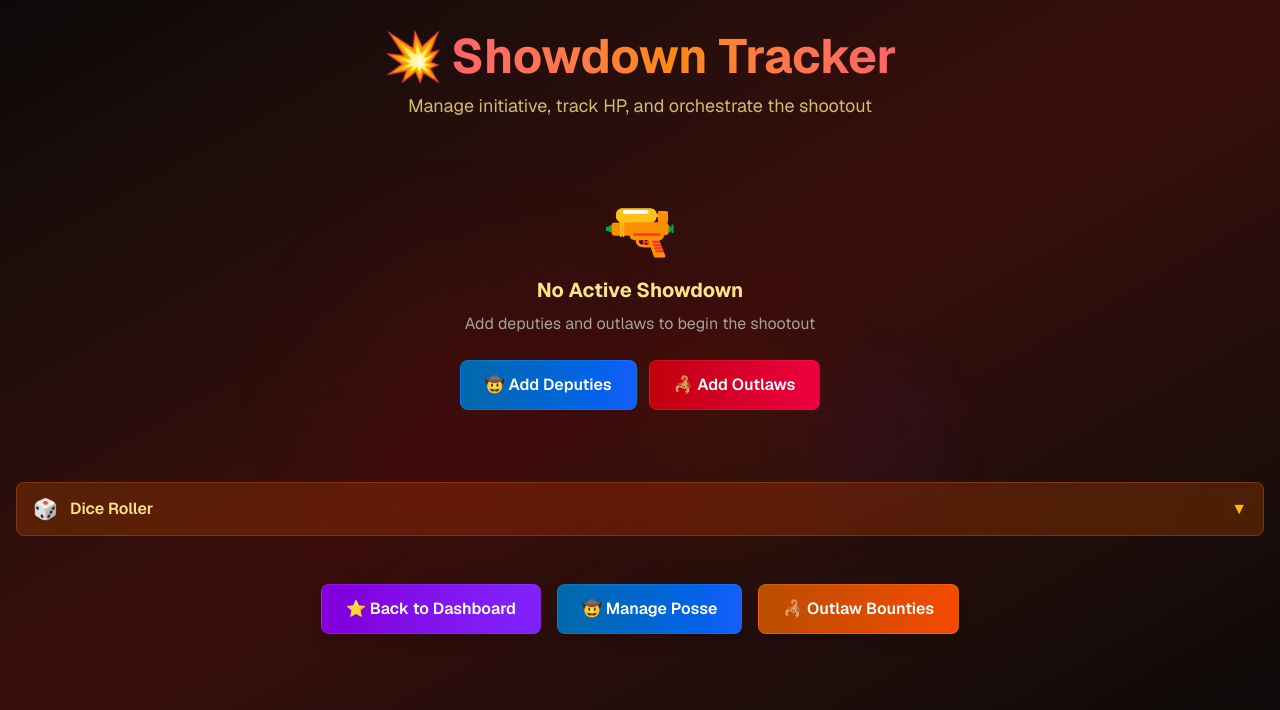
CombatPage › dice roller panel › should update roll count badge when dice are rolled
Step 1. Click the button "🎲 Dice Roller ▼" → coordinates (112, 508), box [16, 482, 1264, 536]
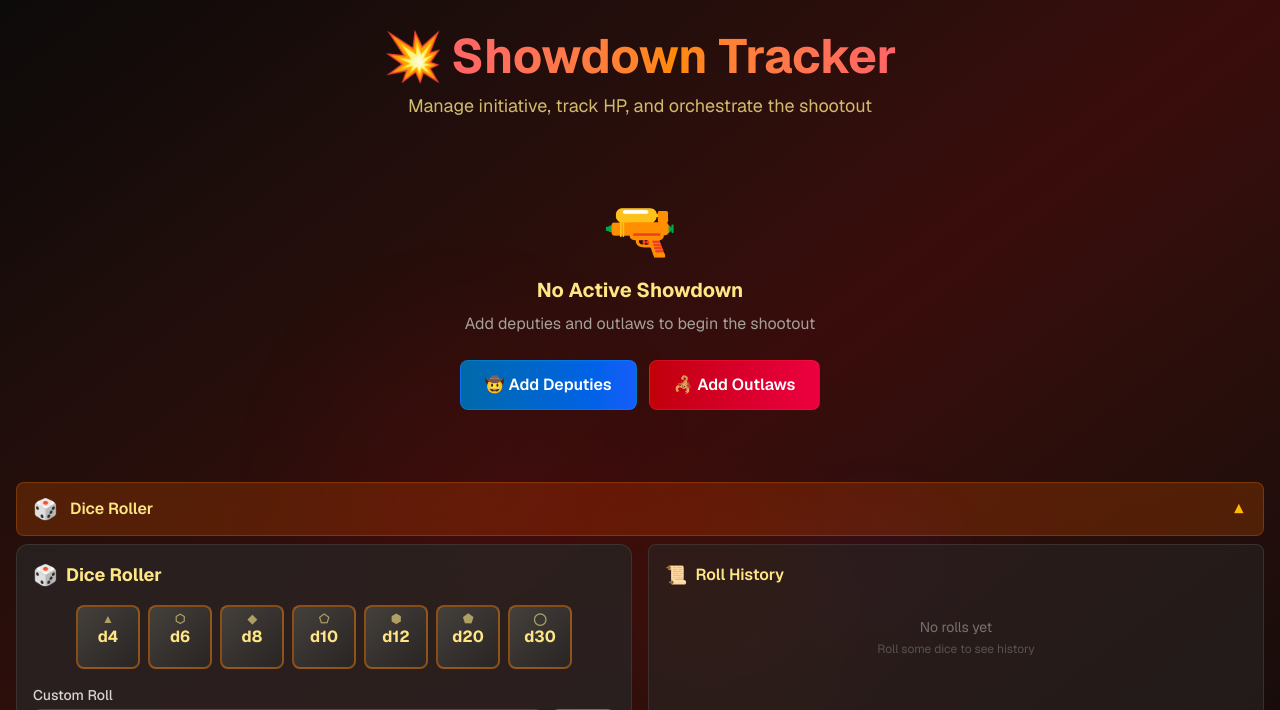
# Roll a die
Step 2. Click the button named "roll d20" → coordinates (468, 637), box [436, 605, 500, 669]
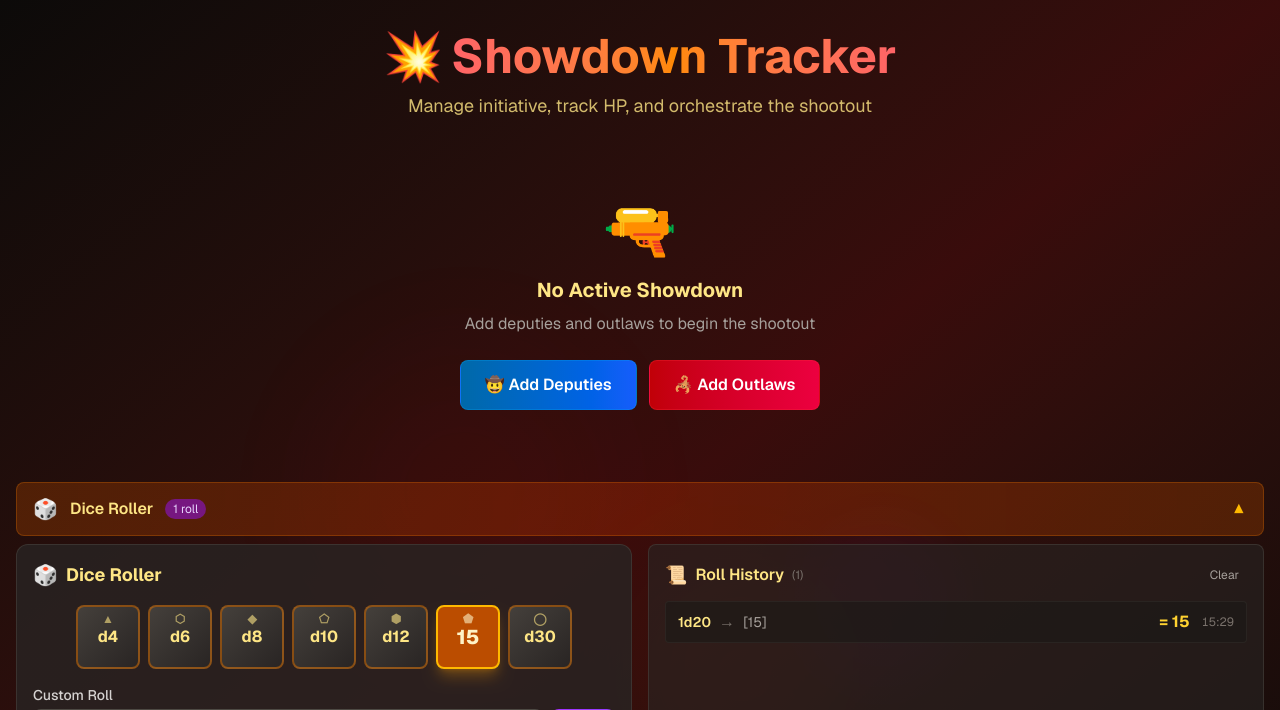
Now the text "1 roll" is shown, box [165, 499, 206, 519]
